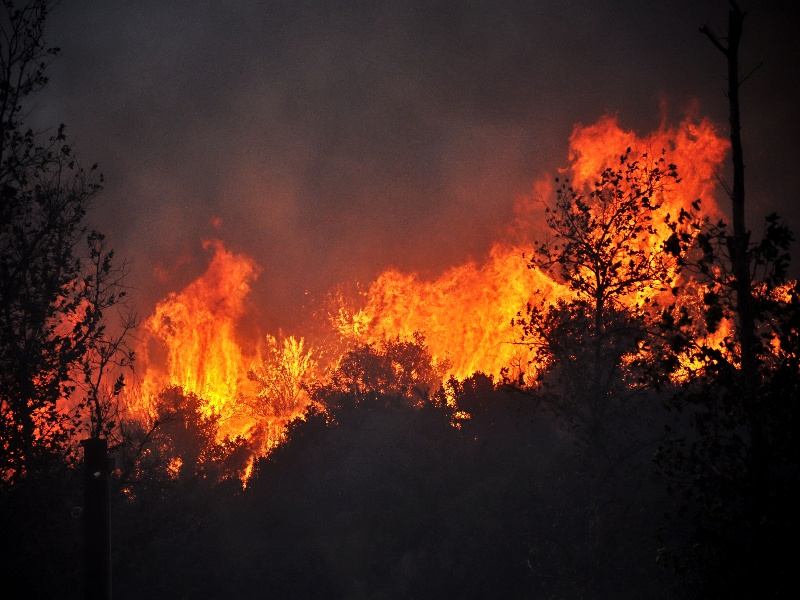fire: (93, 291, 258, 458), (369, 248, 528, 414), (559, 182, 737, 289), (260, 325, 356, 413), (673, 325, 740, 377)
